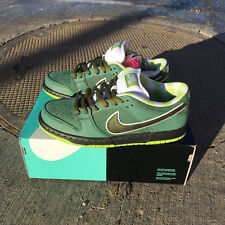Nike SB Dunk Green Lobster: (37, 68, 194, 150), (42, 39, 180, 102)
